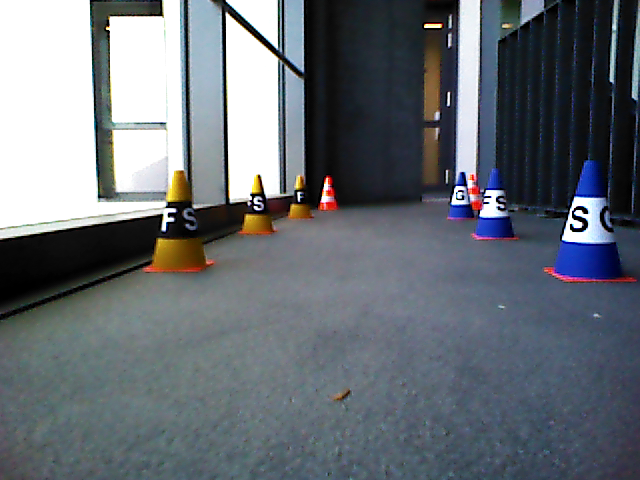bluecone: (556, 161, 623, 273), (477, 169, 511, 236), (449, 172, 473, 216)
orangeconesmall: (318, 176, 338, 211), (470, 174, 483, 209)
yellowcone: (152, 171, 203, 267), (242, 175, 271, 231), (289, 176, 311, 216)
